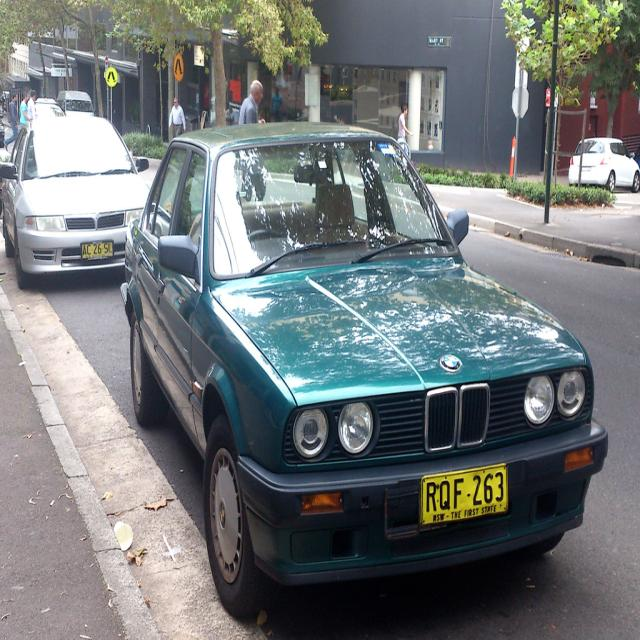car: (118, 119, 586, 606)
